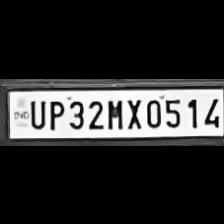0: (142, 95, 162, 127)
1: (182, 94, 198, 128)
2: (86, 96, 104, 130)
3: (65, 96, 84, 128)
4: (200, 94, 222, 126)
5: (162, 94, 182, 128)
M: (104, 95, 124, 129)
P: (44, 96, 64, 128)
U: (26, 96, 46, 128)
X: (124, 96, 142, 128)
